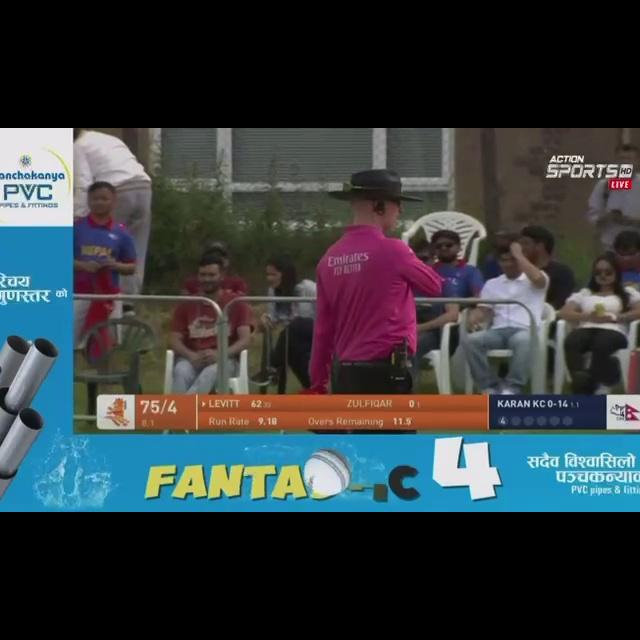umpire: (284, 156, 469, 392)
